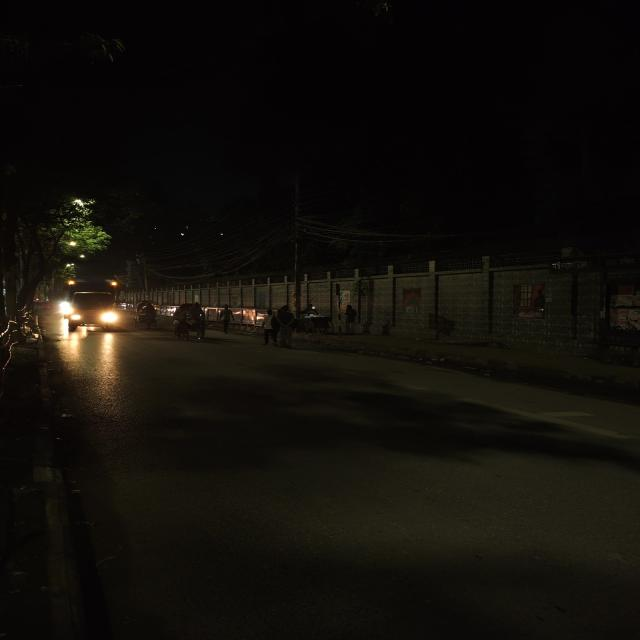pedestrian: (261, 304, 297, 348), (170, 302, 204, 342), (134, 301, 160, 331), (215, 304, 235, 334)
rickshaw: (134, 301, 160, 331)
truck: (60, 284, 121, 333)
